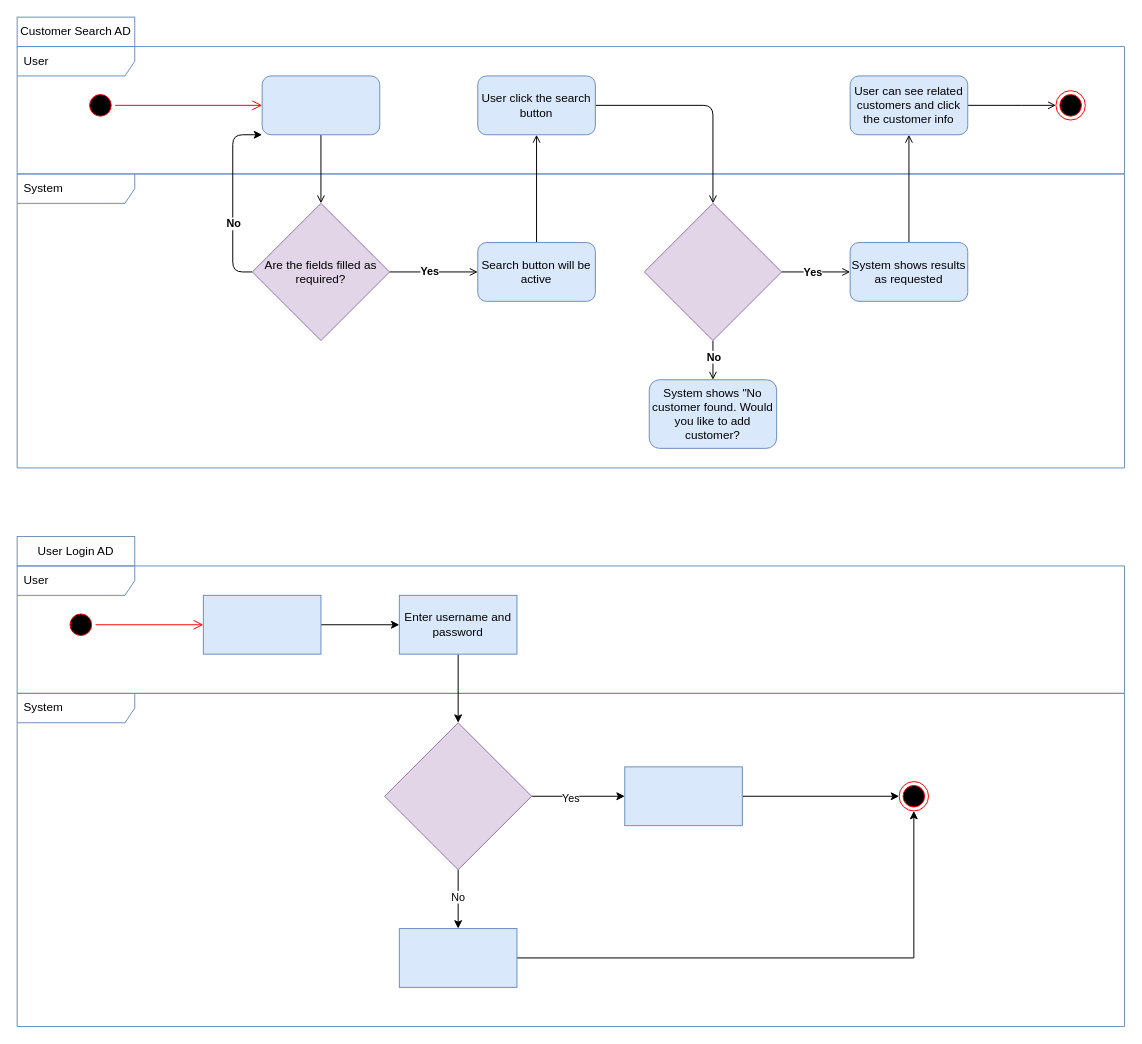
This 1142x1044 diagram has some shape labels left out. The centre of each missing label's shape, as x and y in pixels:
Any results found?: point (712, 271)
Are username and password correct?: point (458, 796)
Go login screen: point (261, 624)
Open Search Customer and Filter page: point (683, 796)
System shows "Wrong name or password": point (457, 957)
User fill the related fields on Search Filter: point (320, 105)
